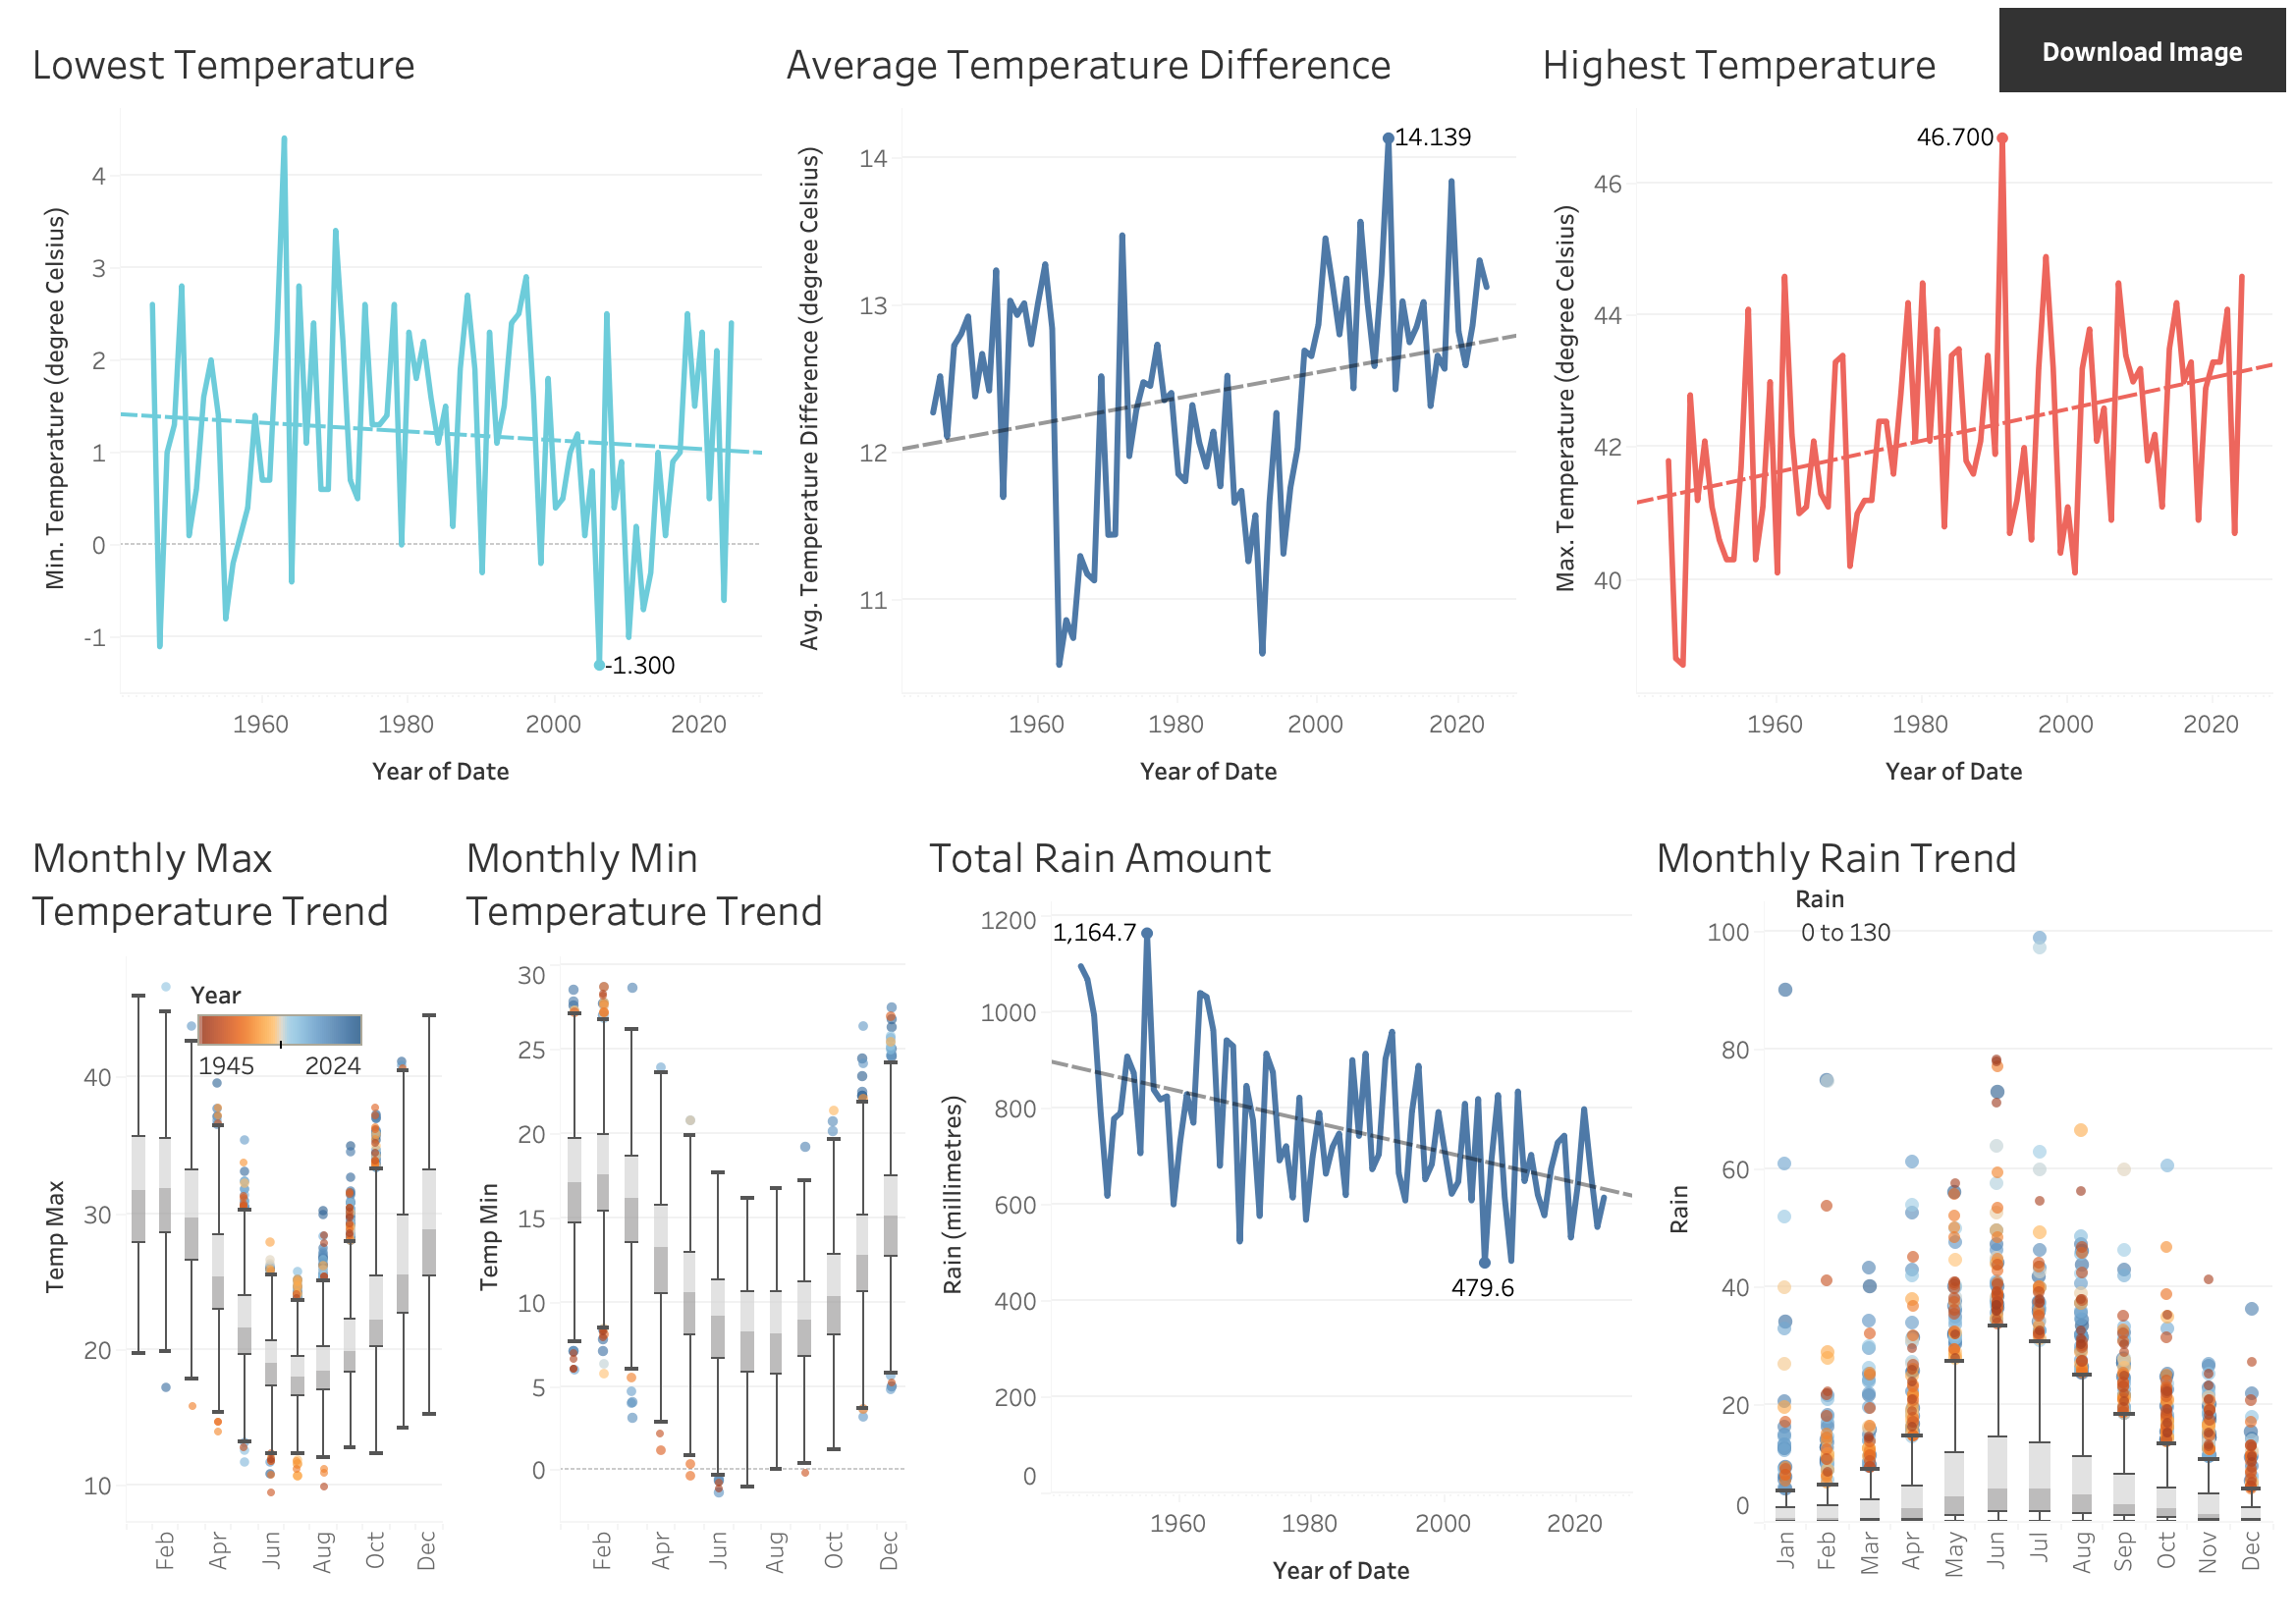

The dashboard page shown, as its layout file describes it:
{"tool":"tableau","page":{"name":"Dashboard 1","canvas":[1169,827],"ordinal":0},"visuals":[{"type":"dashboard-object","box":[1018,4,146,43]},{"type":"worksheet","title":"Yearly Lowest Temperature","mark":"Automatic","rows":["Temp_Min"],"cols":["Date"],"box":[8,8,384.3,404.3]},{"type":"worksheet","title":"Yearly Average Temperature Difference","mark":"Automatic","rows":["Calculation_551128027299004416"],"cols":["Date"],"box":[392.3,8,384.3,404.3]},{"type":"worksheet","title":"Yearly Highest Temperature","mark":"Automatic","rows":["Temp_Max"],"cols":["Date"],"box":[776.6,8,384.4,404.3]},{"type":"worksheet","title":"Monthly Max Temperature Trend","mark":"Circle","rows":["Temp_Max"],"cols":["Month"],"box":[8,412.3,221,406.7]},{"type":"worksheet","title":"Monthly Min Temperature Trend","mark":"Circle","rows":["Temp_Min"],"cols":["Month"],"box":[229,412.3,236,406.7]},{"type":"worksheet","title":"Yearly Total Rain Amount","mark":"Automatic","rows":["Rain"],"cols":["Date"],"box":[465,412.3,370,406.7]},{"type":"worksheet","title":"Monthly Rain Trend","mark":"Circle","rows":["Rain"],"cols":["Month"],"box":[835,412.3,326,406.7]},{"type":"filter","title":"Monthly Rain Trend","param":"[federated.0e3p5bp0k2h5ac15dt2ww1bnj6vk].[none:Rain:qk]","box":[914,448,230,60]},{"type":"legend","title":"Monthly Max Temperature Trend","param":"[federated.0e3p5bp0k2h5ac15dt2ww1bnj6vk].[none:Year:qk]","box":[97,494,92,64]}]}

Visuals, with their boxes in screenshot pixels (x1, y1, x2, y2), scaled from the page's 1169x827 canvas onto the 2296x1624 screenshot:
dashboard-object: (1999,8,2286,92)
"Yearly Lowest Temperature" worksheet: (16,16,771,810)
"Yearly Average Temperature Difference" worksheet: (771,16,1525,810)
"Yearly Highest Temperature" worksheet: (1525,16,2280,810)
"Monthly Max Temperature Trend" worksheet (Circle marks): (16,810,450,1608)
"Monthly Min Temperature Trend" worksheet (Circle marks): (450,810,913,1608)
"Yearly Total Rain Amount" worksheet: (913,810,1640,1608)
"Monthly Rain Trend" worksheet (Circle marks): (1640,810,2280,1608)
"Monthly Rain Trend" filter: (1795,880,2247,998)
"Monthly Max Temperature Trend" legend: (191,970,371,1096)
